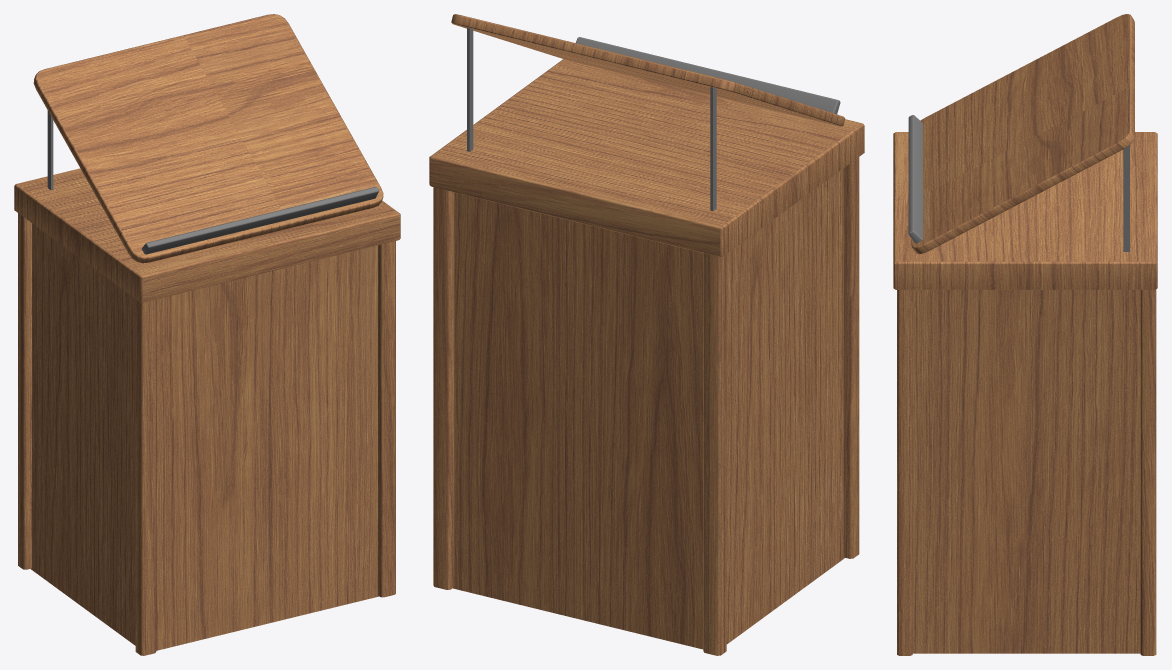
File: SM_teachersdesk.fbx
The picture shows the model from 3 angles, left to right: view 1: azimuth 30°, elevation 25°; view 2: azimuth 150°, elevation 25°; view 3: azimuth 270°, elevation 25°; orthographic projection. The views are drawn at different scales.
Visible parts, largest first — view 1: teachersdesk; view 2: teachersdesk; view 3: teachersdesk.
Boxes of the visible parts, left/top/right/bottom form: teachersdesk: left=14, top=14, right=400, bottom=655; teachersdesk: left=429, top=14, right=864, bottom=655; teachersdesk: left=893, top=14, right=1157, bottom=655.
Size of the model in its own units: 26.25 by 48.25 by 22.23.
Materials: 2 (1 with a texture image).
